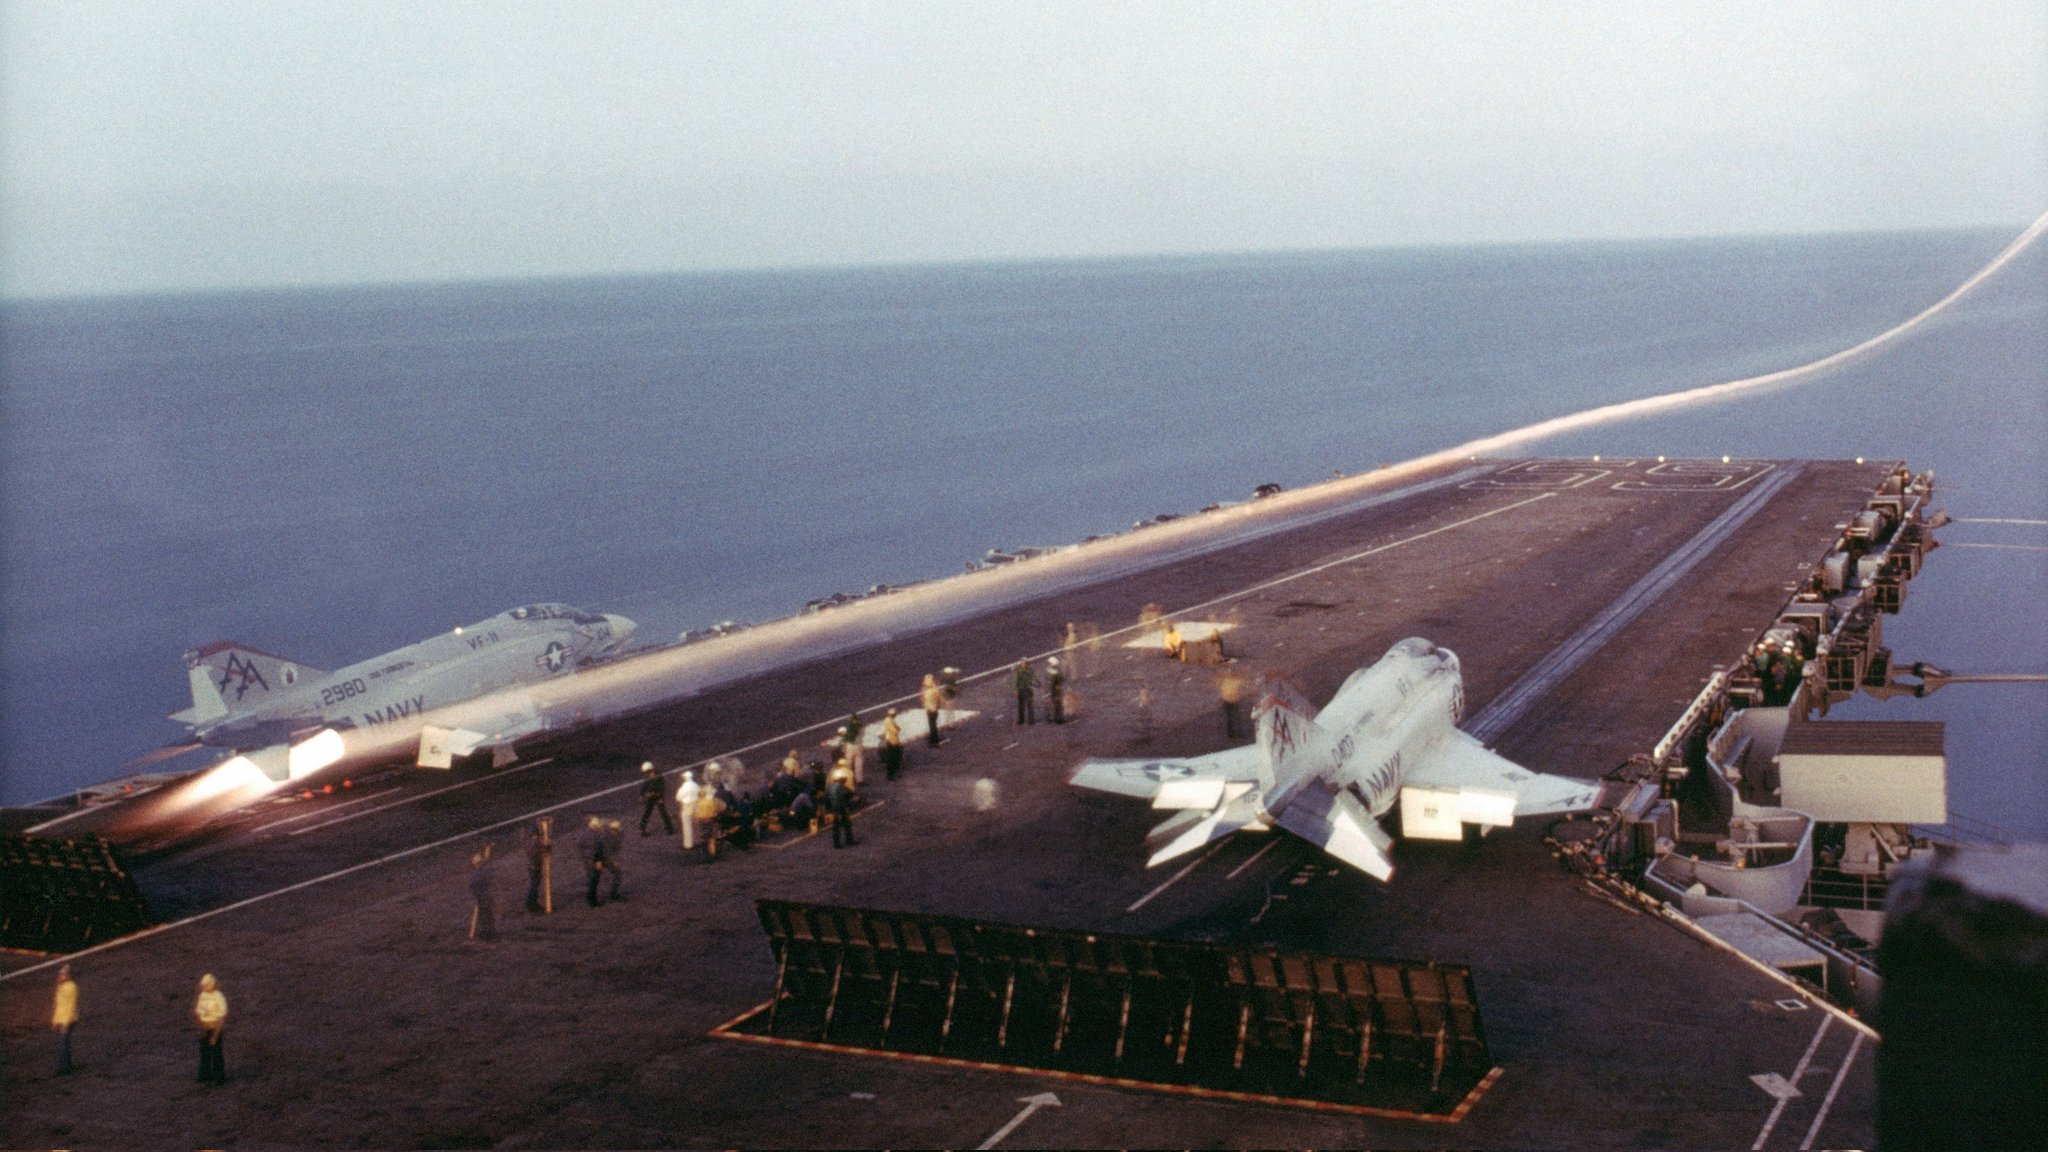F4: (1063, 634, 1609, 883), (158, 602, 639, 782)
